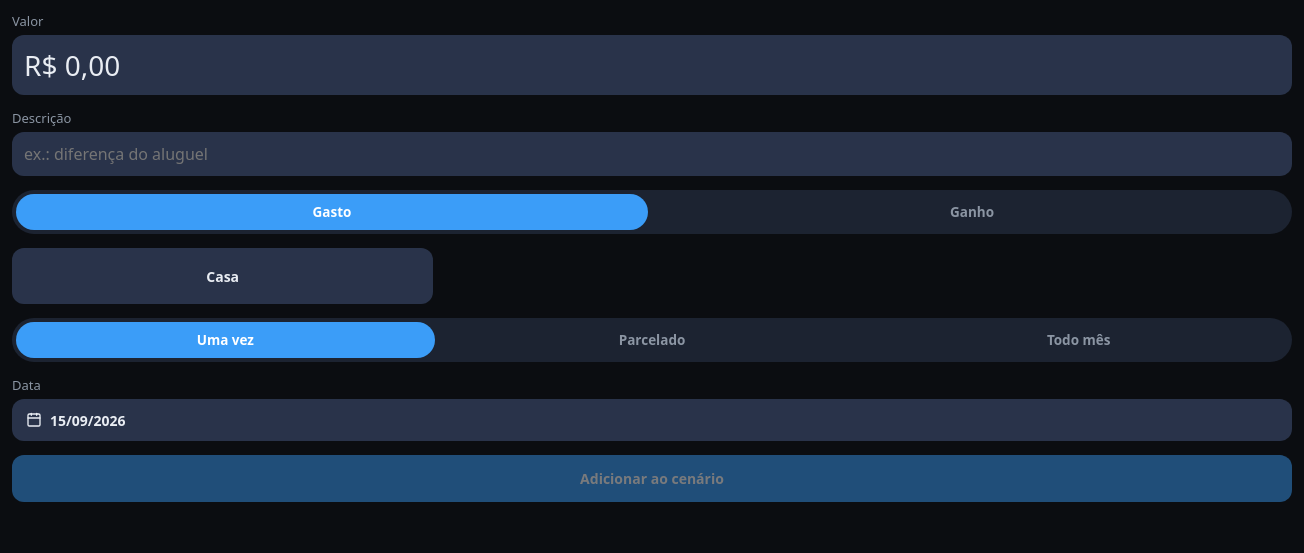
Test: Parcelado também exige que a parcela arredondada seja pelo menos 1 centavo
The image size is (1304, 553).
In the field labelled "Valor": (652, 65) top-left (12, 35), bottom-right (1292, 95), type "1,00"
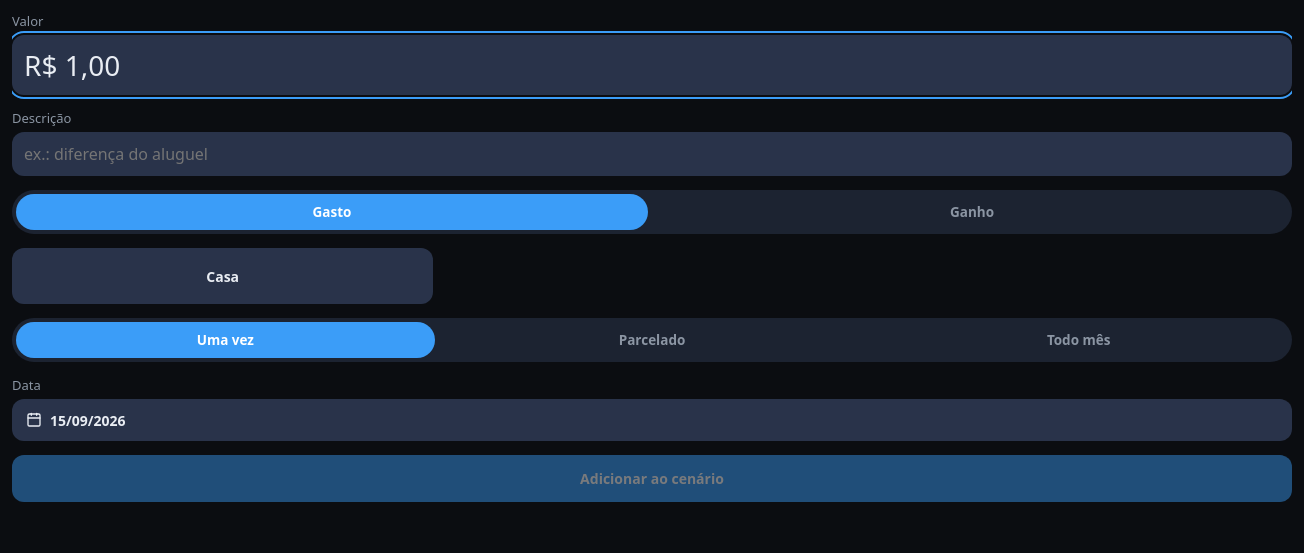
Click the button "Casa": (223, 276) top-left (12, 248), bottom-right (433, 304)
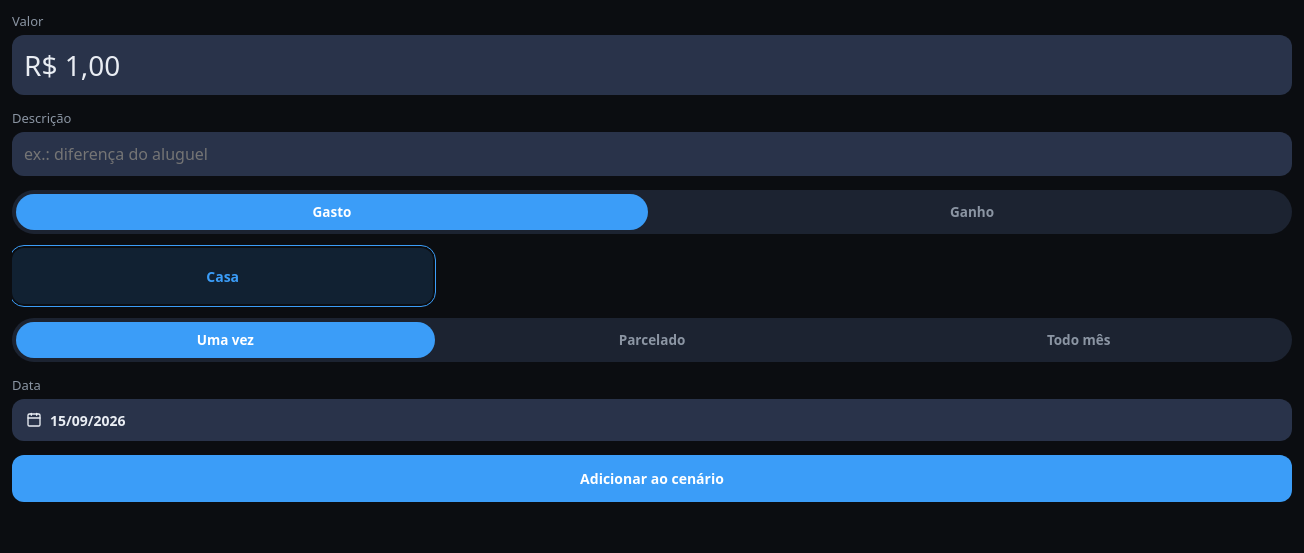
Click the radio button labelled "Parcelado": (652, 340) top-left (443, 322), bottom-right (861, 358)
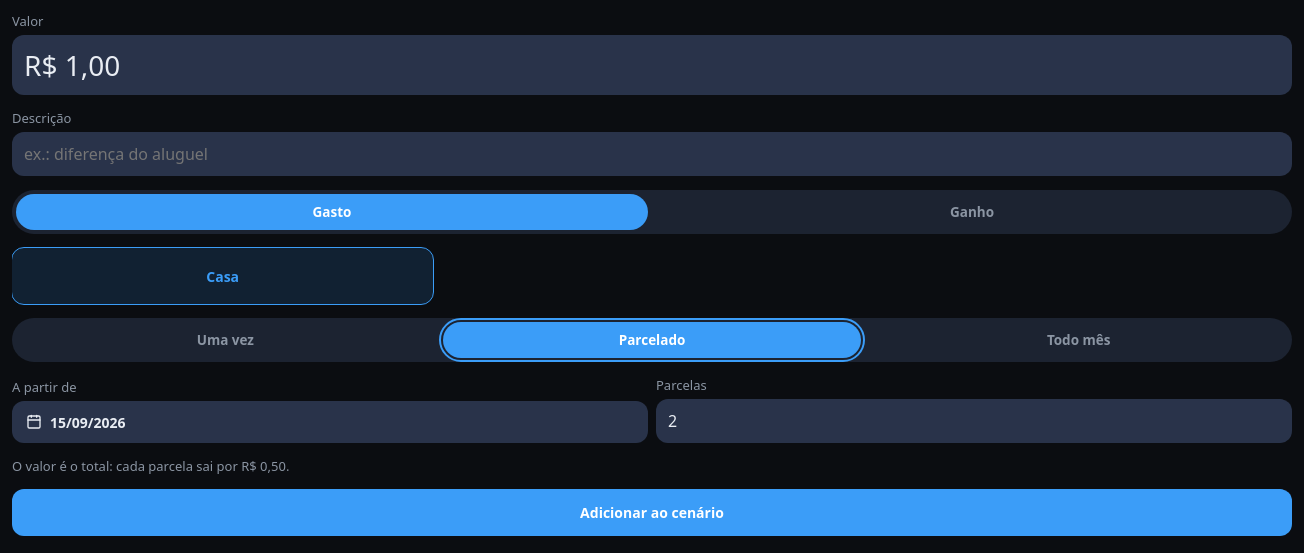
Replace the text in the field labelled "Parcelas" with "300": (974, 421) top-left (656, 399), bottom-right (1292, 443)
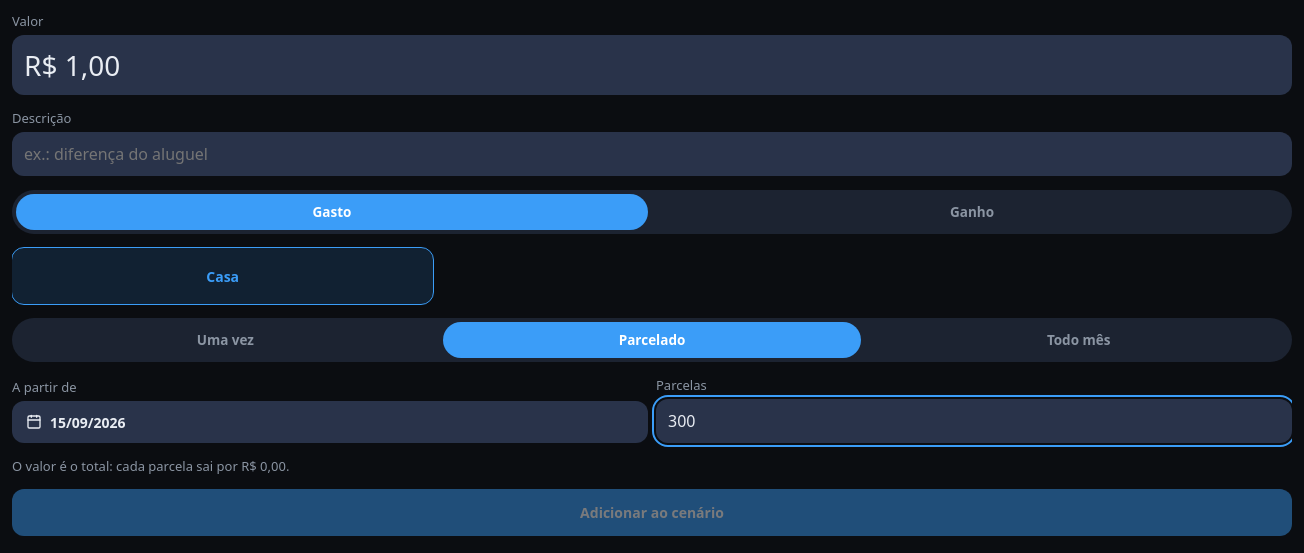
Now the button "Adicionar ao cenário" is disabled, box top-left (12, 489), bottom-right (1292, 536)
Replace the text in the field labelled "Parcelas" with "100": (974, 421) top-left (656, 399), bottom-right (1292, 443)
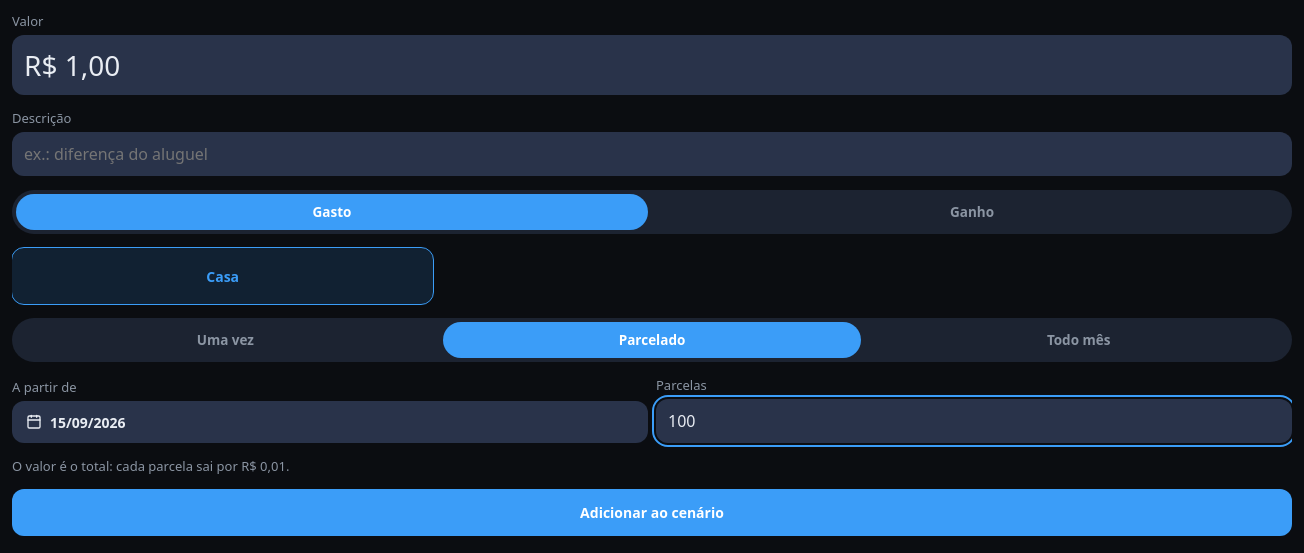
Now the button "Adicionar ao cenário" is enabled, box top-left (12, 489), bottom-right (1292, 536)
